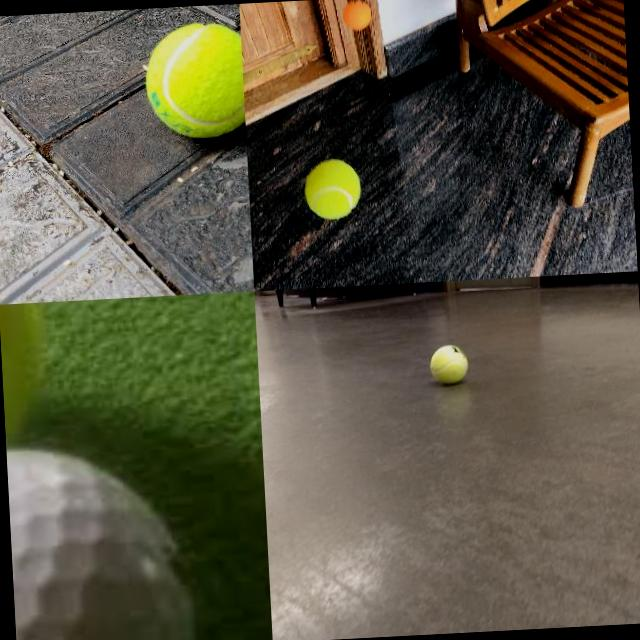Tennis Ball: (140, 20, 247, 142), (304, 160, 362, 220), (430, 344, 470, 386)
